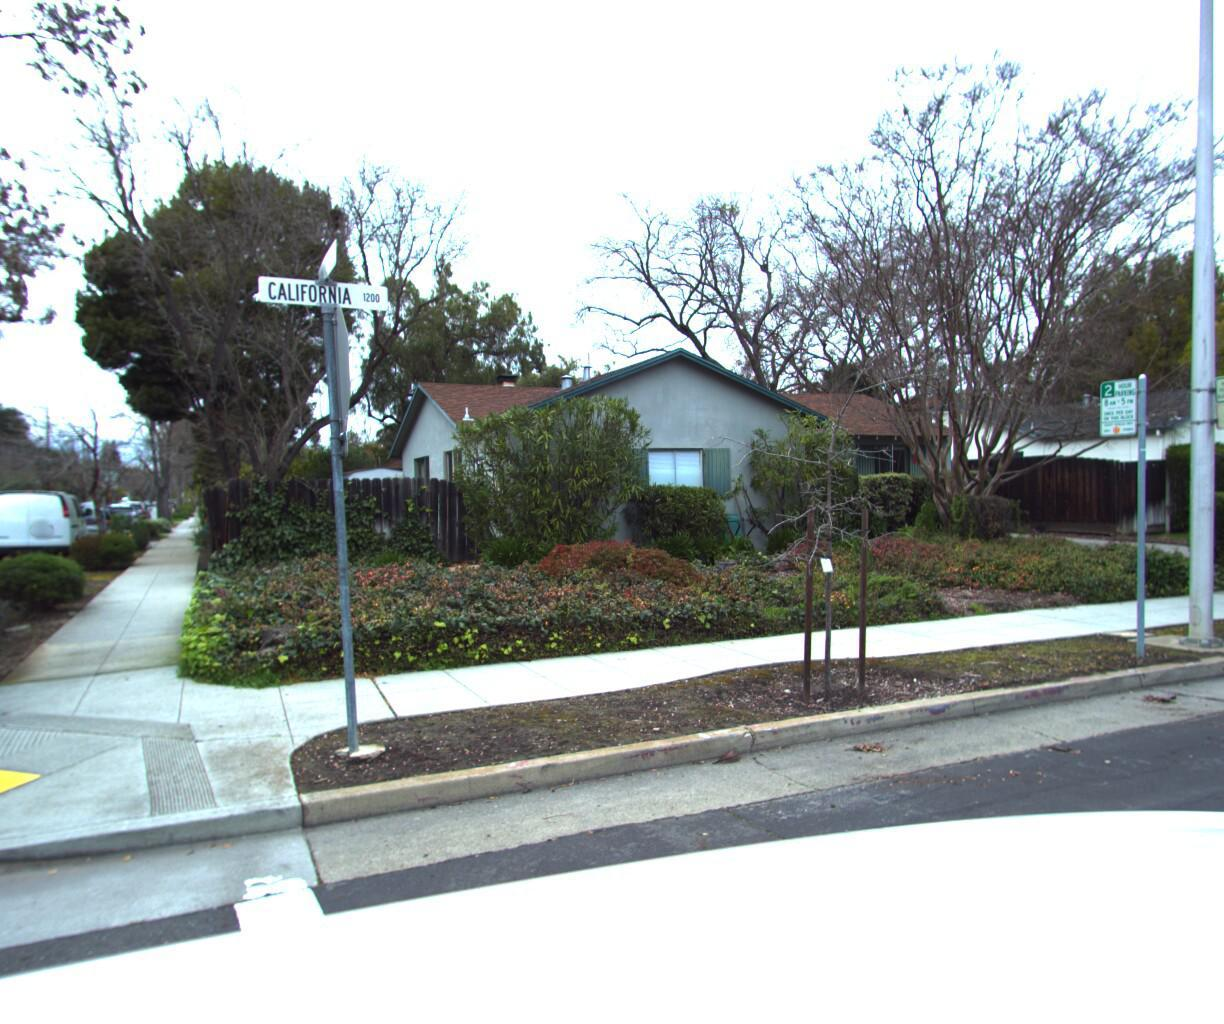car: (0, 489, 96, 570), (65, 508, 127, 552), (117, 503, 152, 533)
